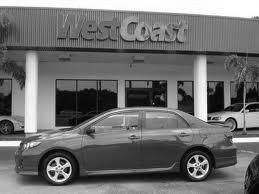car: (10, 102, 243, 188)
